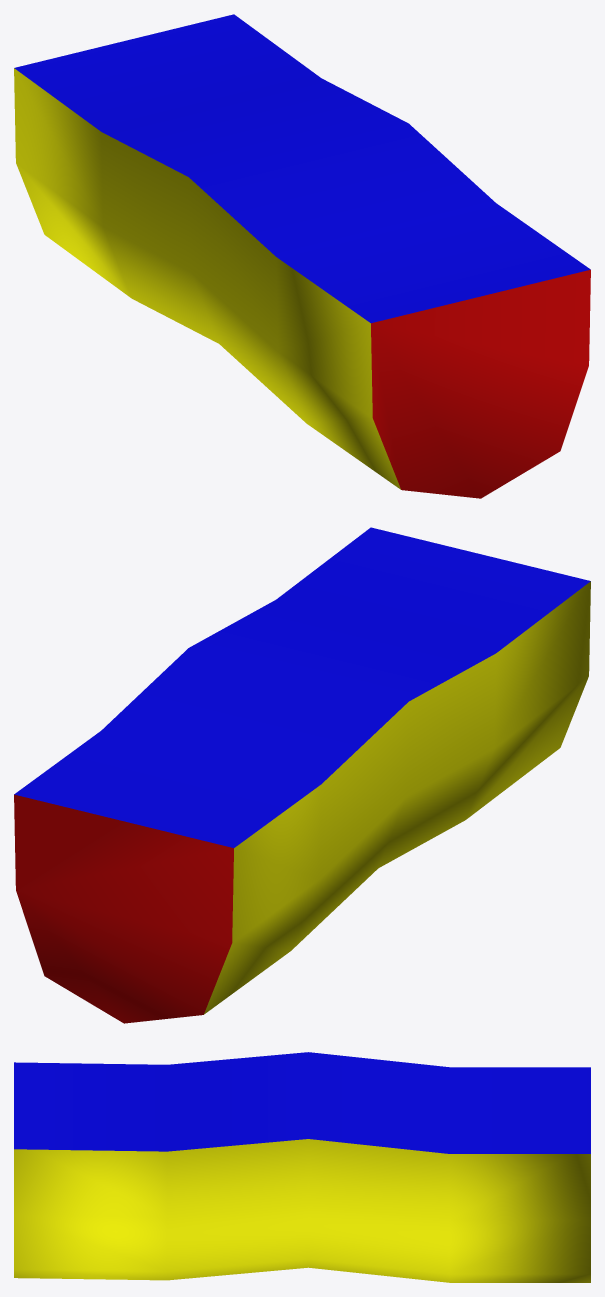
3 renders of one model, top to bottom at view 1: azimuth 30°, elevation 25°; view 2: azimuth 150°, elevation 25°; view 3: azimuth 270°, elevation 25°, orthographic. The views are drawn at different scales.
Parts seen in each view (by area): view 1: polySurface125; view 2: polySurface125; view 3: polySurface125.
Boxes of the visible parts, x1=… form: polySurface125: x1=14, y1=14, x2=590, y2=498; polySurface125: x1=14, y1=527, x2=590, y2=1023; polySurface125: x1=14, y1=1052, x2=590, y2=1282.
Bounding box in the file's own units: 23.58 × 22.61 × 66.22.
